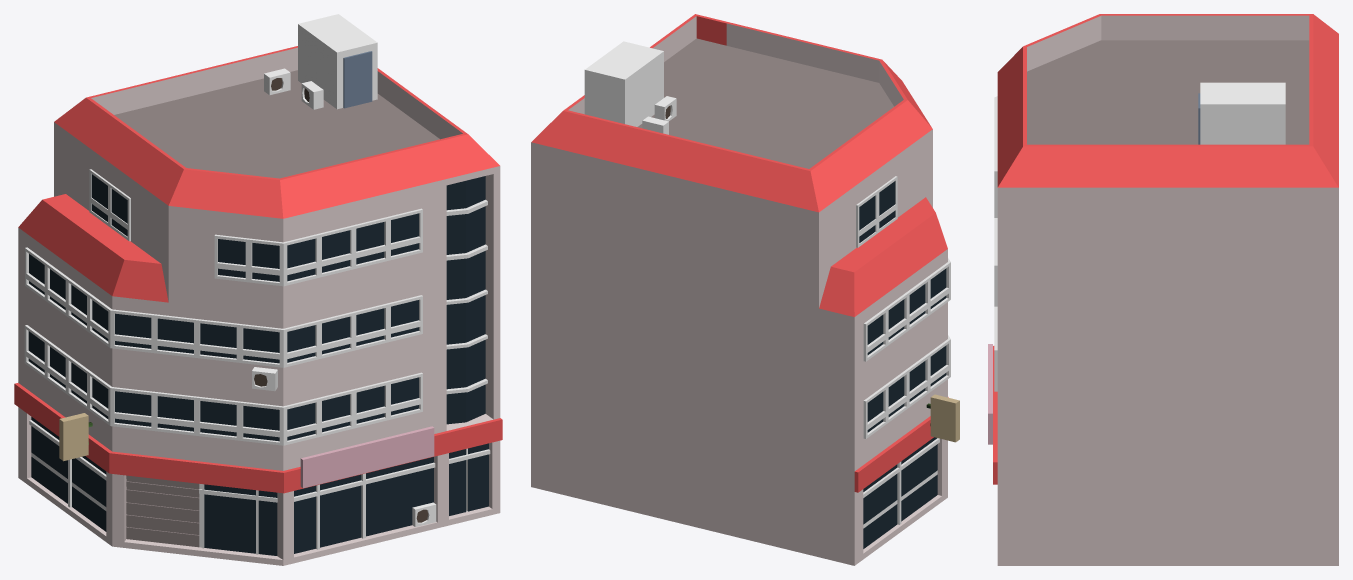
File: Building_Store01.fbx
3 renders of one model, left to right at view 1: azimuth 30°, elevation 25°; view 2: azimuth 150°, elevation 25°; view 3: azimuth 270°, elevation 25°, orthographic. The views are drawn at different scales.
Visible parts, largest first — view 1: Building_Store01; view 2: Building_Store01; view 3: Building_Store01.
Part boxes in pixels (<box>): Building_Store01: <box>14,14,502,565</box>; Building_Store01: <box>531,14,959,565</box>; Building_Store01: <box>988,14,1338,565</box>.
Bounding box in the file's own units: 517 × 405 × 568.
